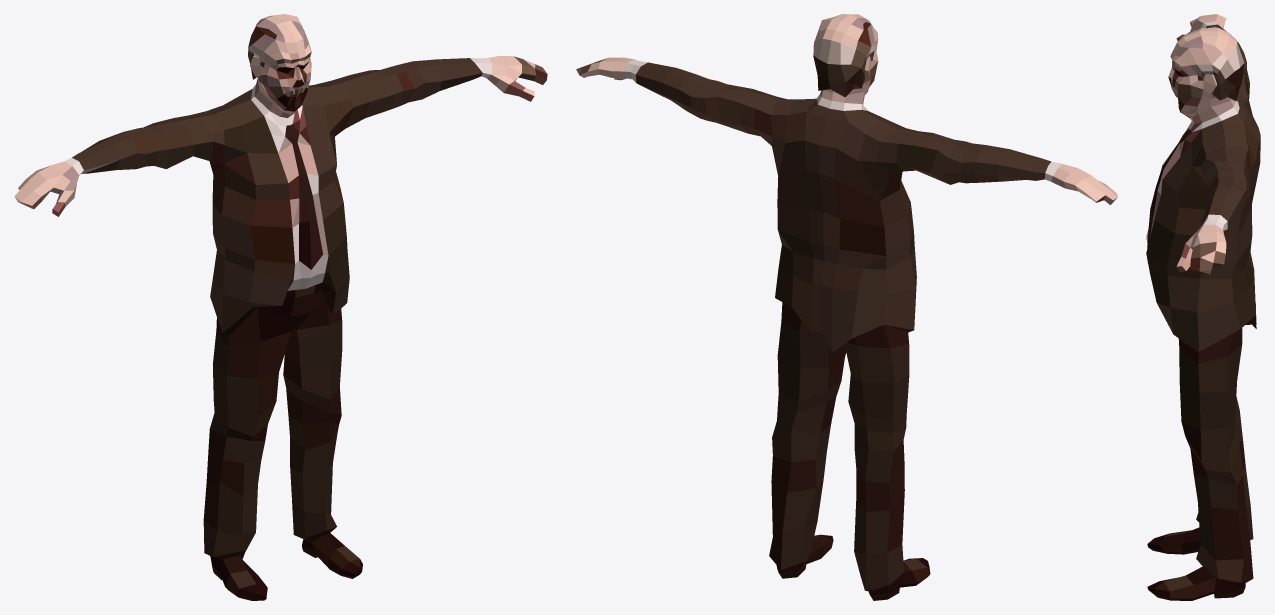
Rendered from ZombieI.fbx.
3 views of the same model, side by side, from view 1: azimuth 30°, elevation 25°; view 2: azimuth 150°, elevation 25°; view 3: azimuth 270°, elevation 25° (orthographic). The views are drawn at different scales.
Parts seen in each view (by area): view 1: lpMale_zombie_D; view 2: lpMale_zombie_D; view 3: lpMale_zombie_D.
Part boxes in pixels (x1,y1,x2,y2): lpMale_zombie_D: (14,14,547,600); lpMale_zombie_D: (576,14,1117,600); lpMale_zombie_D: (1146,14,1260,600).
Size of the model in its own units: 169 by 168 by 32.21.
